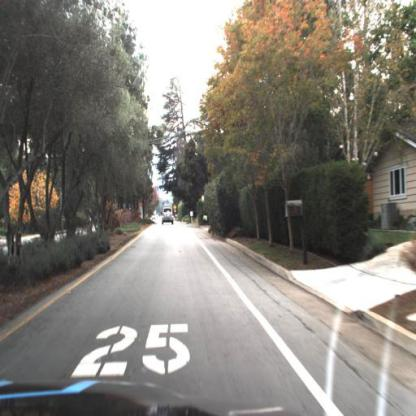car: (160, 205, 178, 228)
